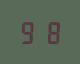eight: (40, 20, 60, 44)
nine: (19, 20, 39, 44)
